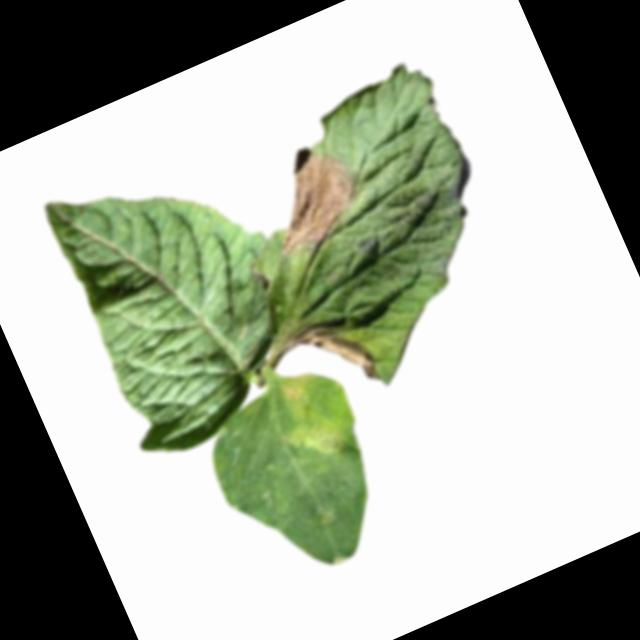Late_blight: (248, 132, 377, 261), (262, 356, 367, 471), (280, 303, 386, 409)
